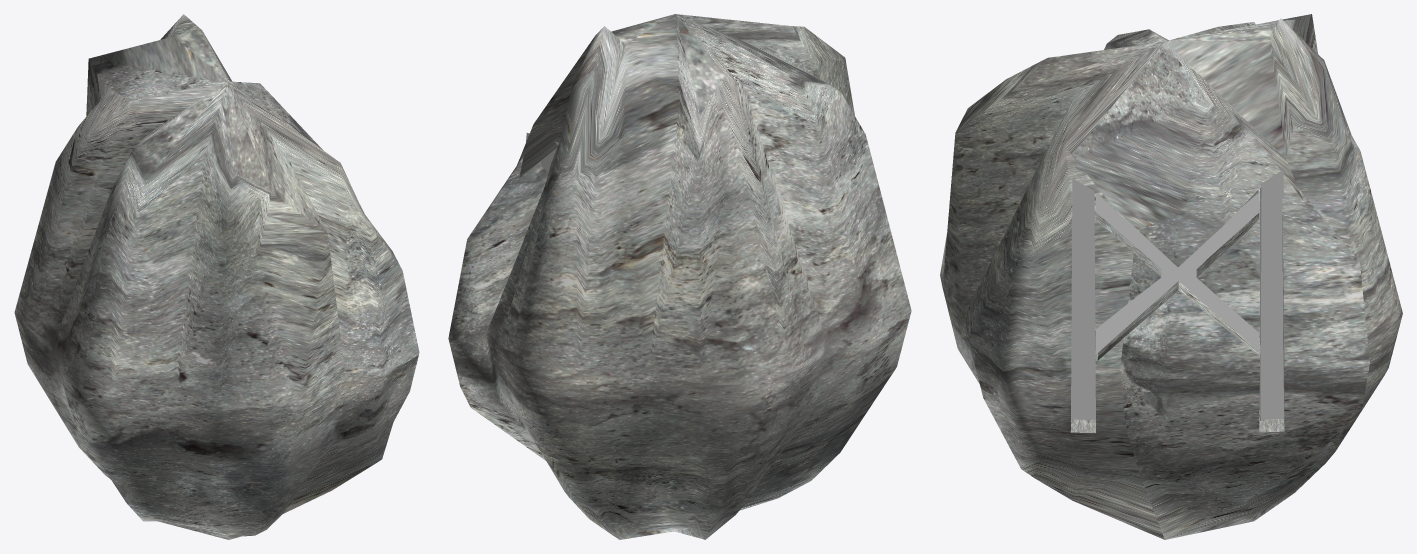
Rendered from Rune.obj.
The picture shows the model from 3 angles, left to right: view 1: azimuth 30°, elevation 25°; view 2: azimuth 150°, elevation 25°; view 3: azimuth 270°, elevation 25°; orthographic projection. The views are drawn at different scales.
Parts seen in each view (by area): view 1: pSphere4; view 2: pSphere4; view 3: pSphere4, pCube2, pCube5, pCube6.
Part boxes in pixels (x1=…): pSphere4: x1=14, y1=14, x2=419, y2=539; pSphere4: x1=448, y1=14, x2=911, y2=539; pSphere4: x1=940, y1=14, x2=1402, y2=539; pCube2: x1=1096, y1=190, x2=1260, y2=353; pCube5: x1=1259, y1=170, x2=1283, y2=419; pCube6: x1=1071, y1=178, x2=1095, y2=419.
Size of the model in its own units: 3.05 by 4.69 by 3.74.
